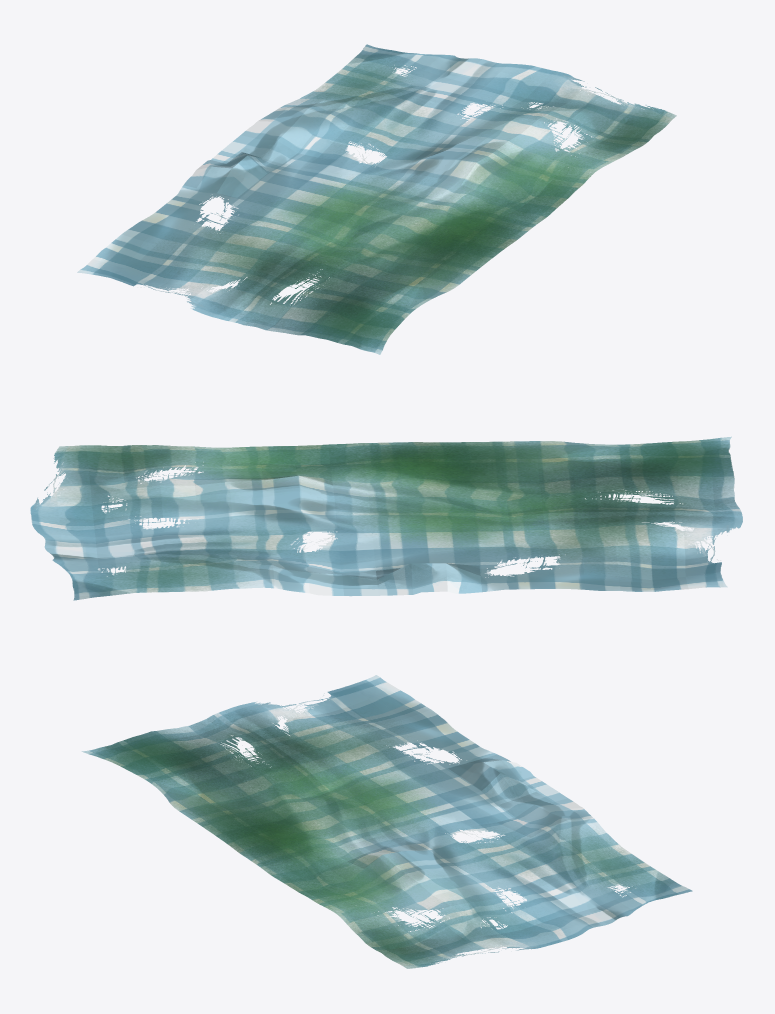
File: Leisure sheet.fbx
The picture shows the model from 3 angles, top to bottom: view 1: azimuth 30°, elevation 25°; view 2: azimuth 150°, elevation 25°; view 3: azimuth 270°, elevation 25°; orthographic projection. The views are drawn at different scales.
Visible parts, largest first — view 1: レジャーシート; view 2: レジャーシート; view 3: レジャーシート.
Boxes of the visible parts, <box> form: レジャーシート: <box>77,44,676,354</box>; レジャーシート: <box>30,436,742,600</box>; レジャーシート: <box>81,675,692,968</box>.
Size of the model in its own units: 29.19 by 0.9266 by 27.02.
1 material, 1 textured.
